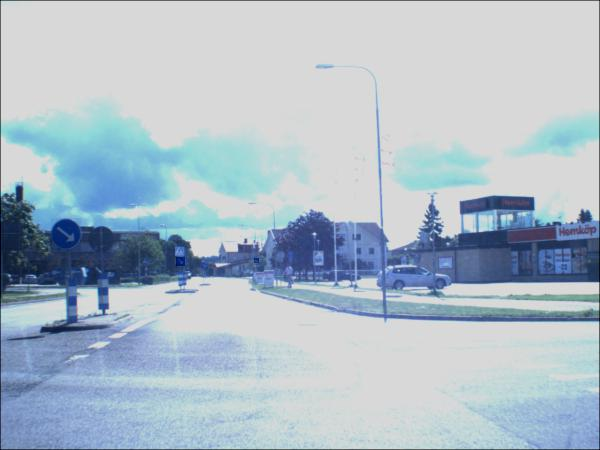PASS_RIGHT_SIDE: (52, 219, 83, 253), (178, 258, 188, 268), (202, 263, 210, 271)
PEDESTRIAN_CROSSING: (177, 248, 187, 258), (145, 260, 151, 266), (255, 259, 261, 265)
PRIORITY_ROAD: (255, 265, 259, 270)
